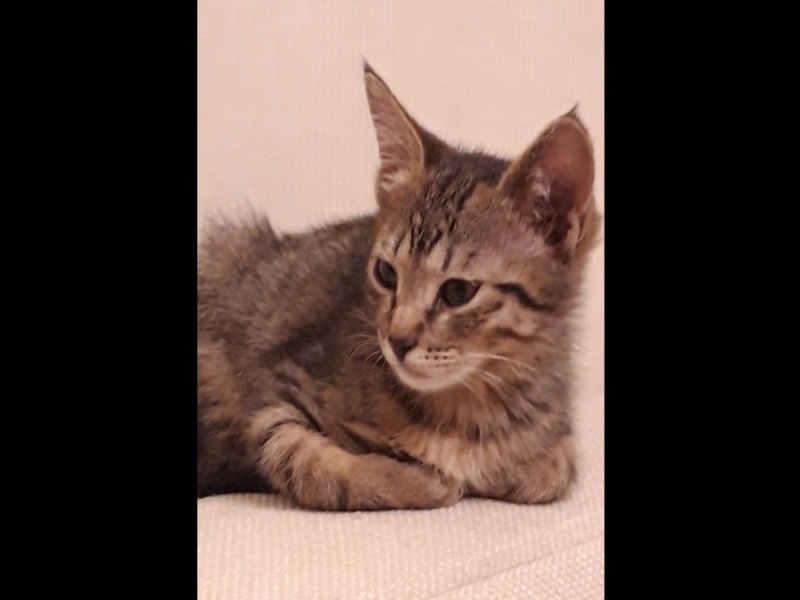cat: (200, 51, 599, 531)
